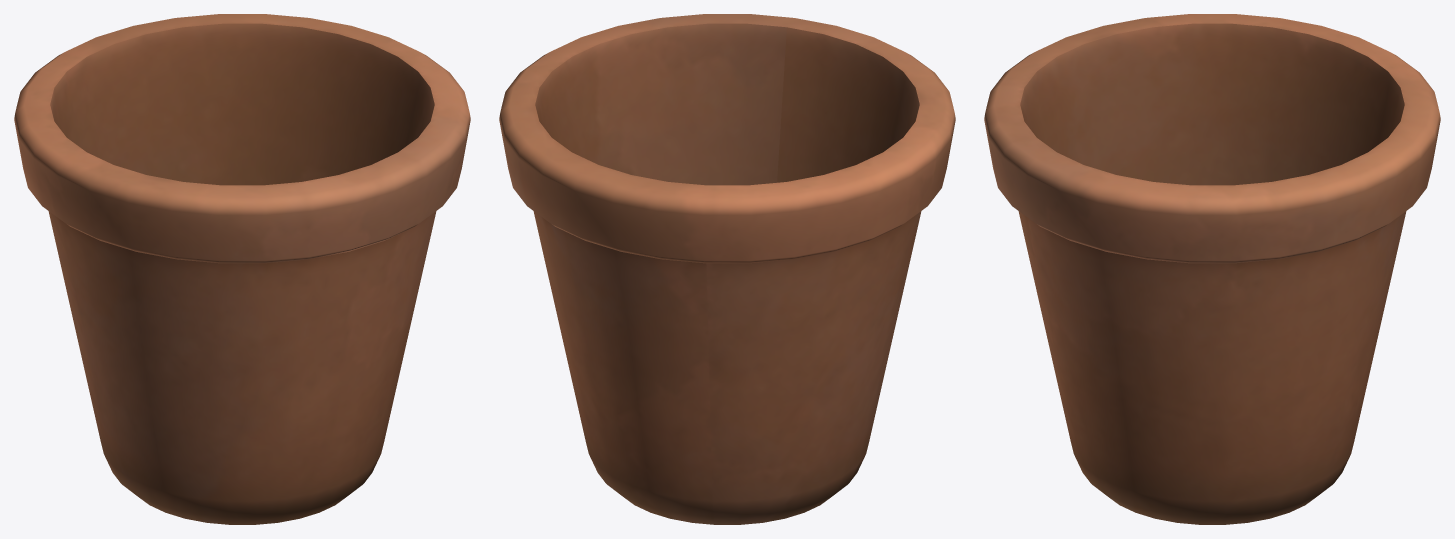
Rendered from SM_Pot_10.fbx.
3 views of the same model, side by side, from view 1: azimuth 30°, elevation 25°; view 2: azimuth 150°, elevation 25°; view 3: azimuth 270°, elevation 25° (orthographic).
Visible parts, largest first — view 1: SM_Pot_10_LOD0; view 2: SM_Pot_10_LOD0; view 3: SM_Pot_10_LOD0.
Boxes of the visible parts, <box> form: SM_Pot_10_LOD0: <box>14,14,470,524</box>; SM_Pot_10_LOD0: <box>499,14,955,524</box>; SM_Pot_10_LOD0: <box>984,14,1440,524</box>.
Bounding box in the file's own units: 16.05 × 16.14 × 14.73.
Materials: 1 (1 with a texture image).
